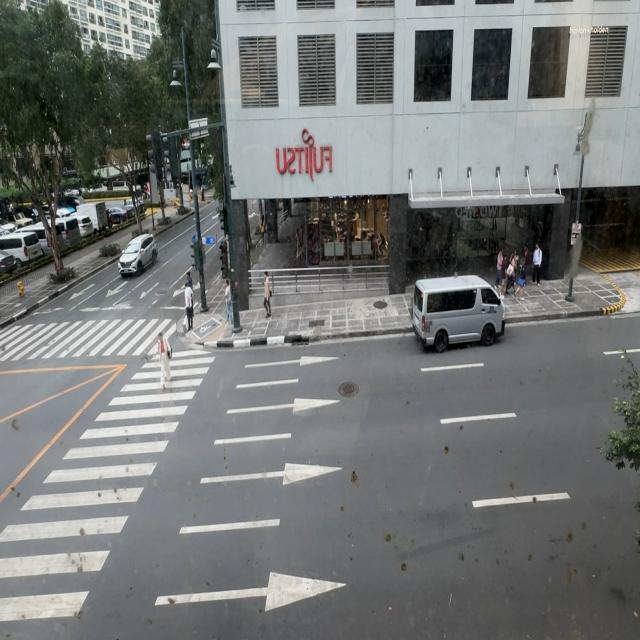waiting: (184, 281, 194, 332), (224, 279, 233, 324)
